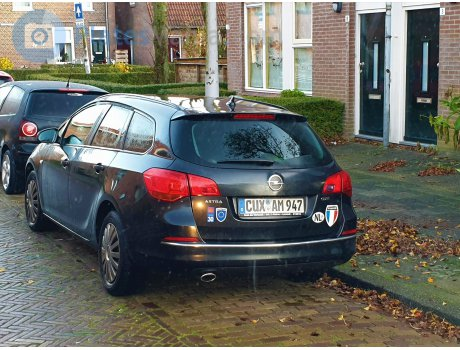License Plates: (245, 196, 303, 212)
